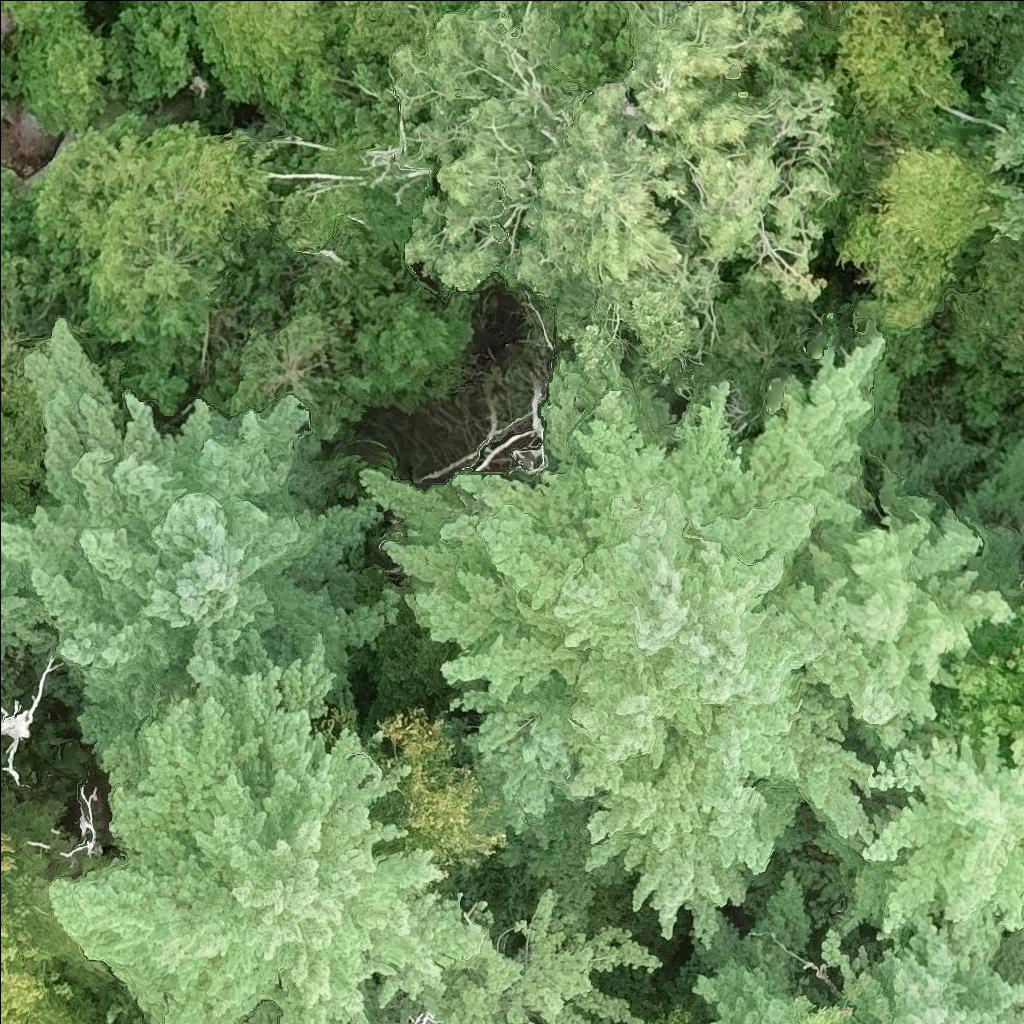crown: (364, 343, 1008, 941), (49, 633, 663, 1023), (0, 319, 395, 750), (392, 0, 835, 360), (697, 873, 1023, 1023), (842, 737, 1023, 929), (838, 145, 1000, 328), (192, 0, 360, 127), (228, 311, 372, 439), (934, 603, 1023, 763), (353, 291, 475, 394), (16, 20, 103, 136), (0, 332, 50, 510), (106, 5, 193, 101), (0, 166, 42, 333), (985, 48, 1023, 221), (0, 663, 53, 781), (0, 922, 43, 1023), (4, 0, 86, 35), (984, 913, 1023, 986), (12, 988, 87, 1023), (790, 998, 865, 1023), (124, 0, 201, 21), (0, 43, 21, 117), (0, 834, 15, 879), (661, 1007, 692, 1023), (409, 1011, 438, 1023), (1015, 887, 1023, 923)
